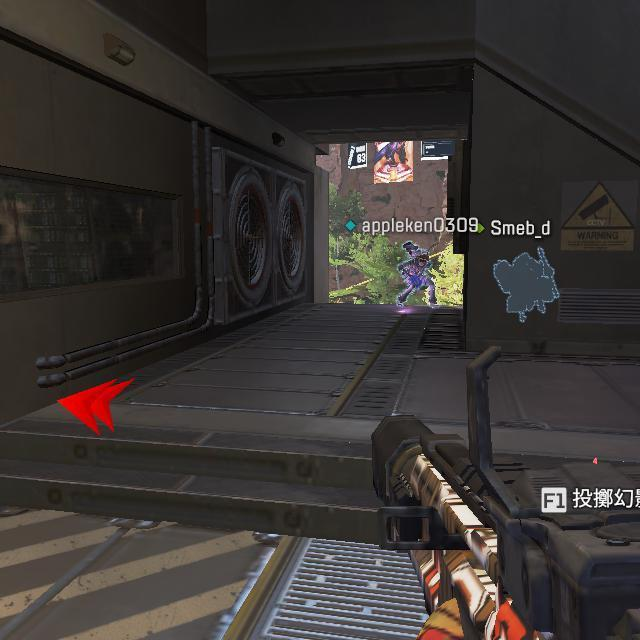avatar: (394, 246, 438, 308)
